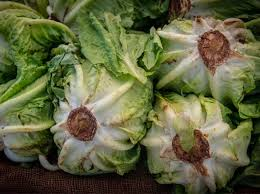Lettuce: (49, 61, 145, 192), (155, 13, 256, 100), (151, 85, 239, 175)
